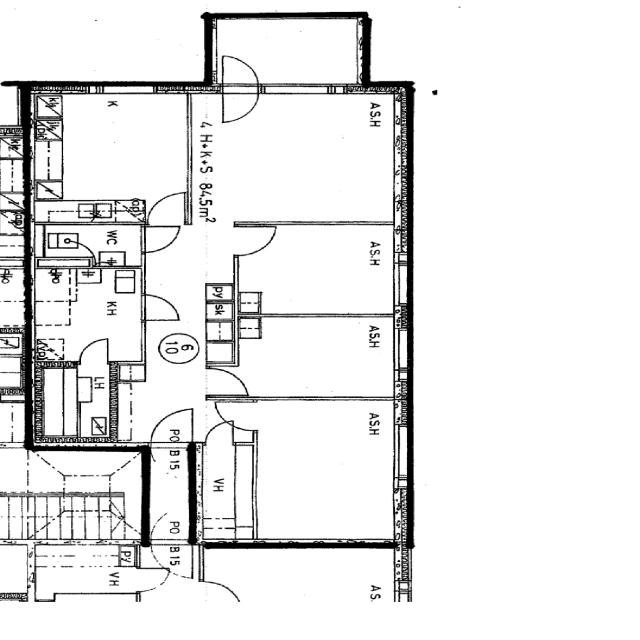door: (214, 51, 261, 126), (149, 511, 192, 576), (229, 218, 284, 258), (147, 407, 197, 446), (211, 398, 256, 438), (144, 190, 191, 227), (201, 365, 253, 398), (138, 224, 184, 254), (139, 292, 185, 322), (77, 336, 113, 366), (135, 566, 171, 594), (205, 422, 237, 446)
window: (257, 78, 343, 101), (389, 320, 416, 373)
zone: (222, 396, 411, 545), (200, 90, 408, 224), (29, 92, 195, 217), (232, 219, 405, 318), (28, 265, 145, 363), (35, 366, 121, 443), (33, 220, 145, 266)
